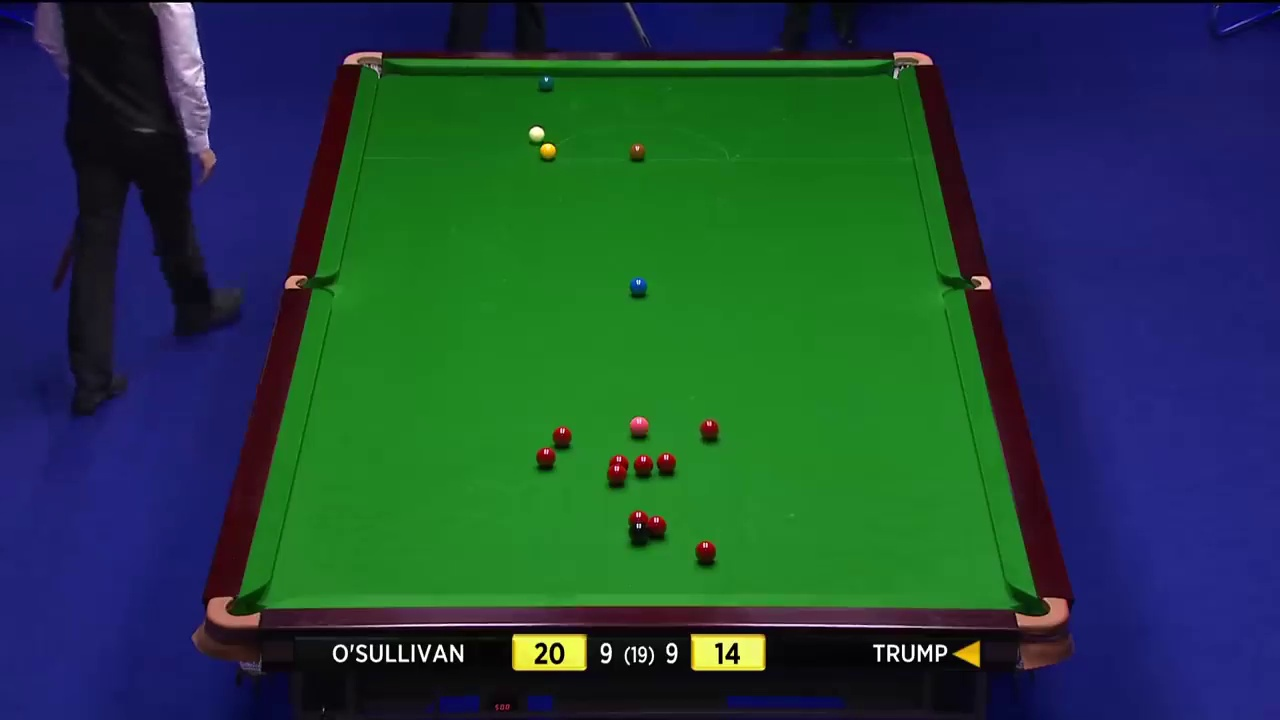ball: (647, 513, 669, 539), (551, 423, 572, 447), (627, 278, 648, 300), (535, 447, 555, 470), (696, 542, 716, 565), (658, 453, 675, 477), (628, 417, 647, 438), (606, 464, 627, 482), (700, 420, 718, 440), (525, 125, 543, 142), (627, 143, 646, 158), (537, 75, 552, 92)
